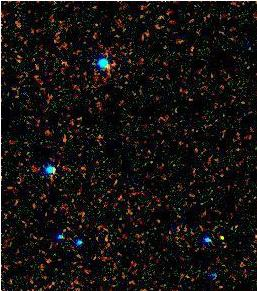star: (207, 223, 237, 253)
